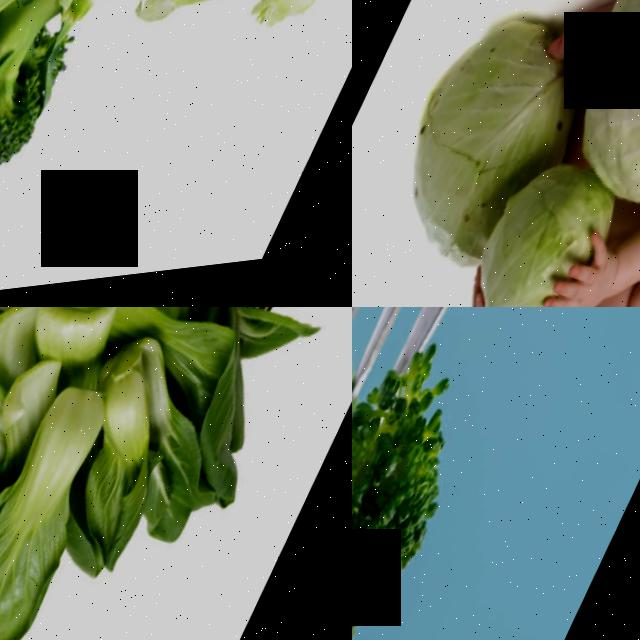bok choy: (75, 348, 248, 585), (0, 392, 131, 640)
broccoli: (0, 0, 352, 307), (352, 307, 498, 640)
cabbage: (352, 3, 559, 275), (474, 165, 600, 307), (567, 0, 640, 201)
